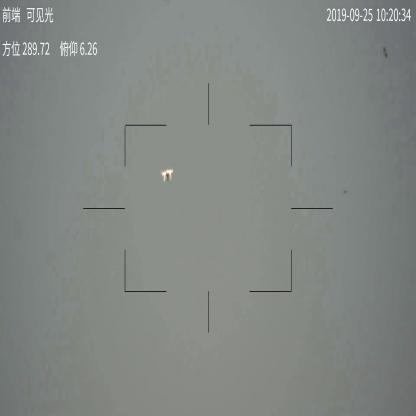uav: (160, 166, 174, 186)
